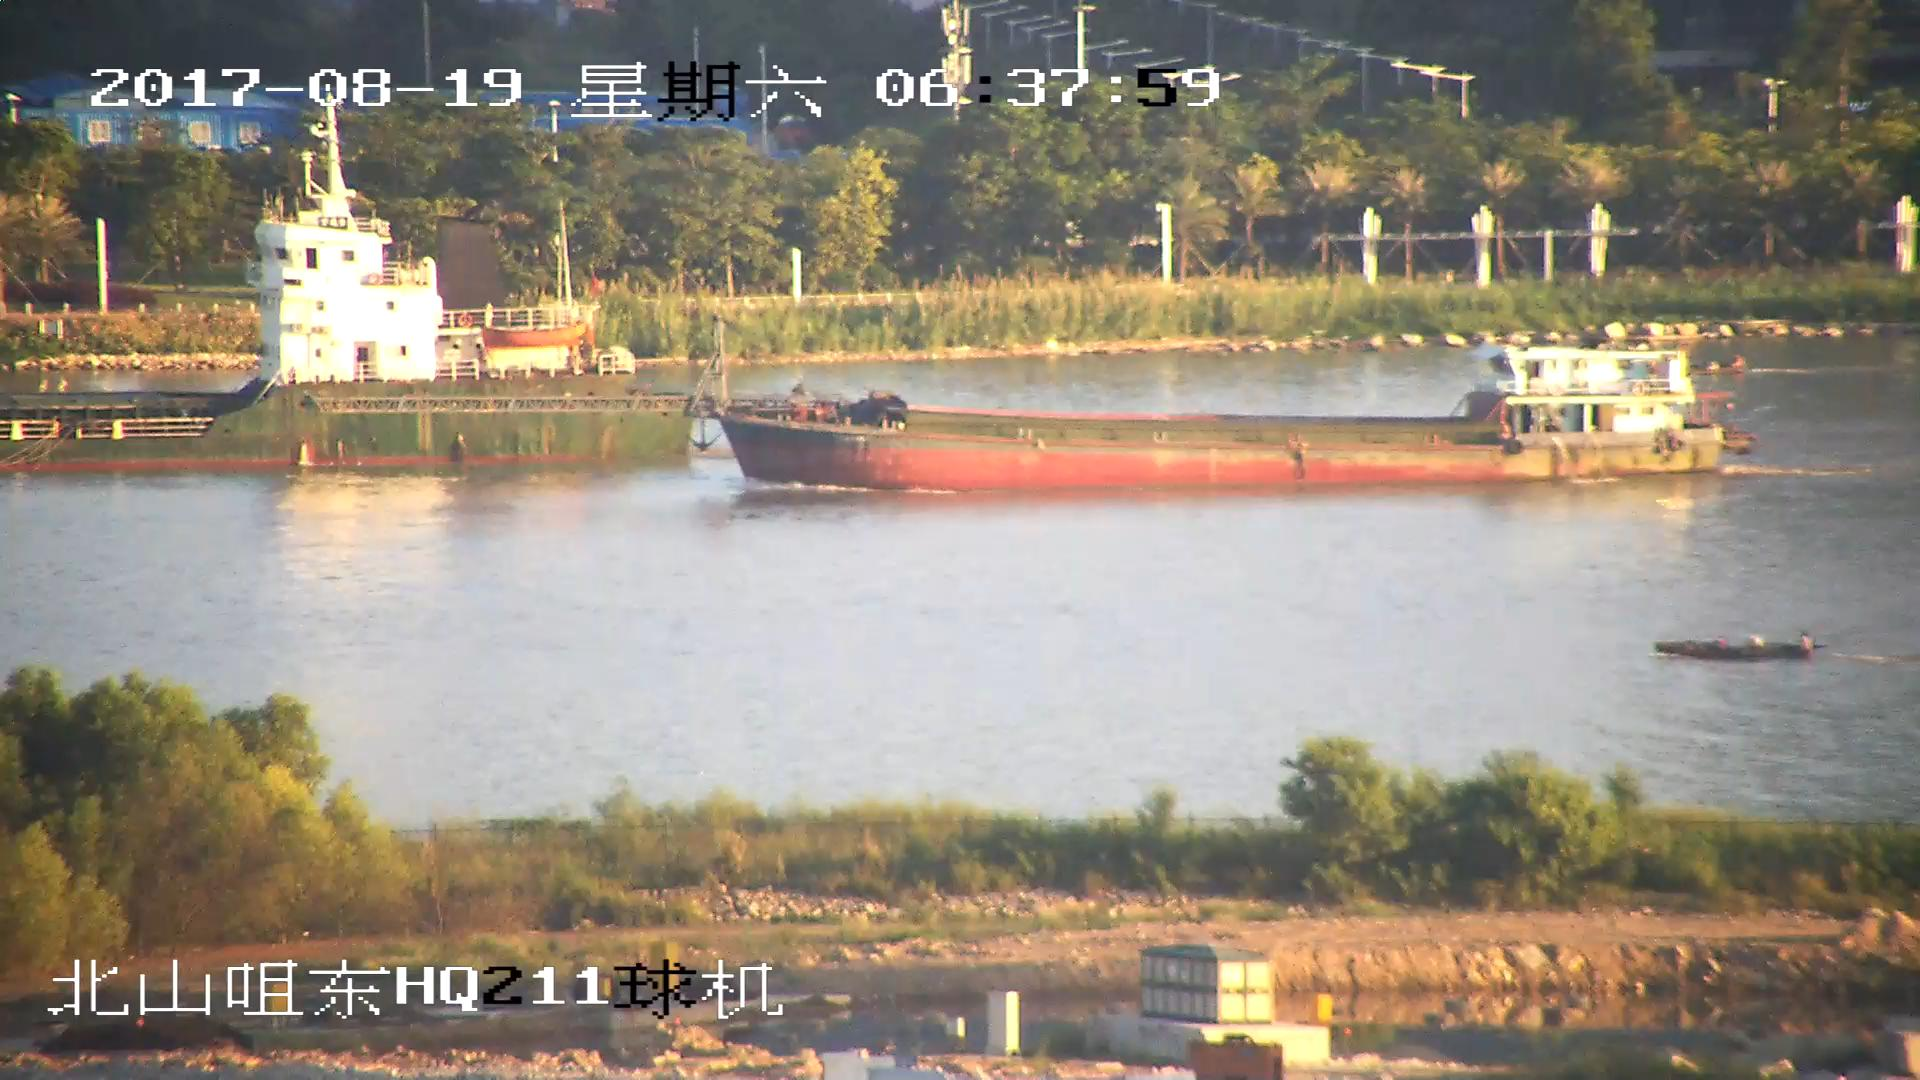bulk cargo carrier: (700, 339, 1736, 488)
fishing boat: (1653, 631, 1821, 662)
general cargo ship: (1, 126, 691, 469)
